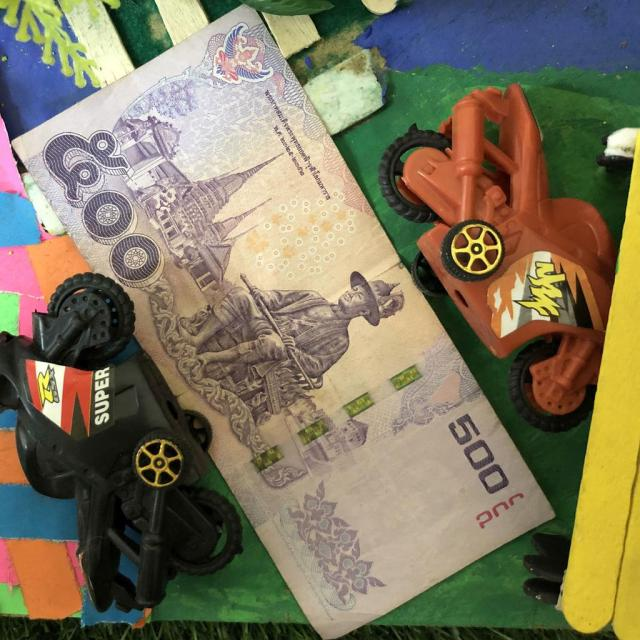THAI500: (14, 6, 552, 638)
